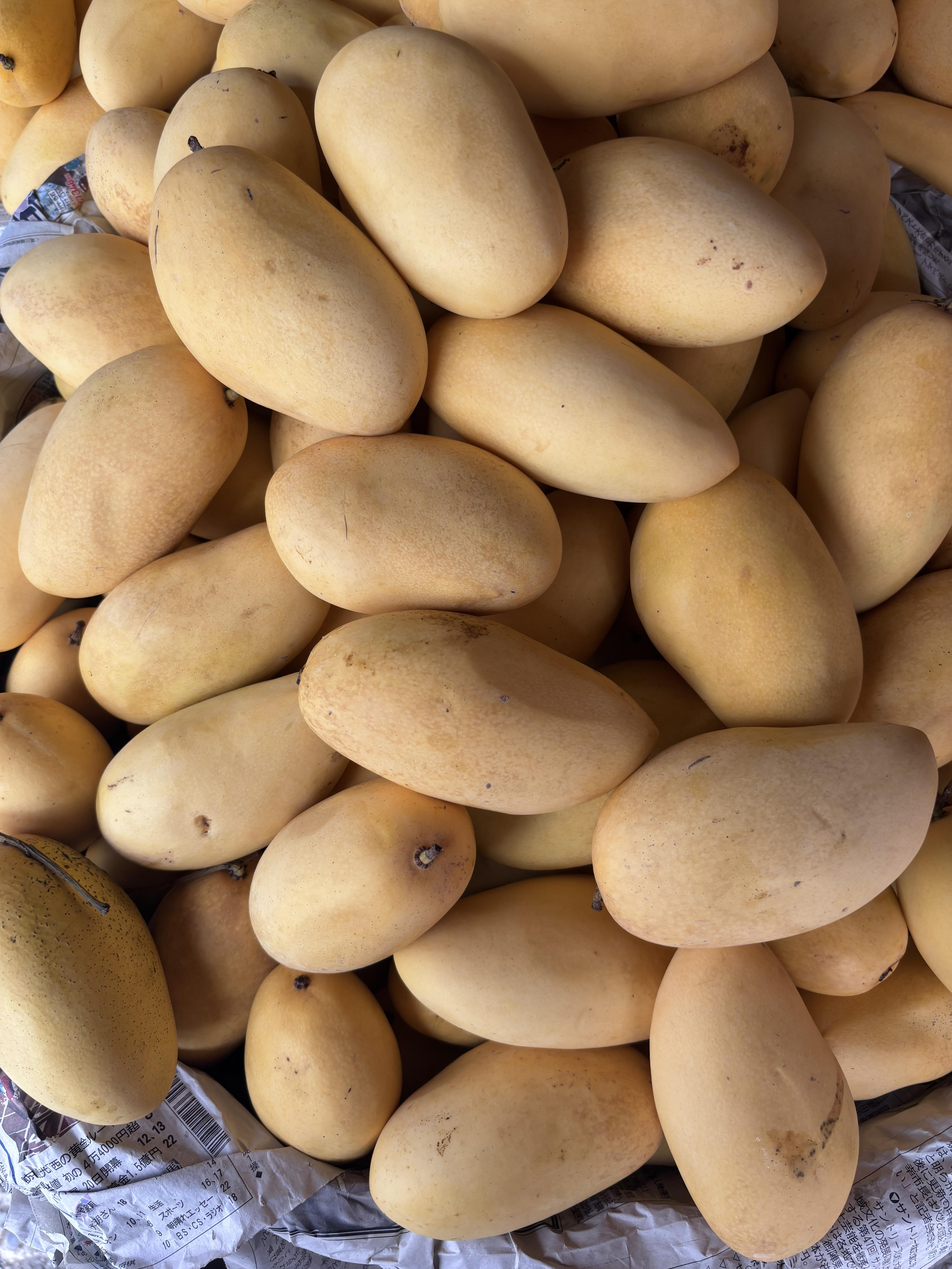mango: (147, 146, 428, 435), (592, 722, 935, 947), (316, 26, 568, 318), (299, 610, 657, 815)
occluded: (650, 944, 858, 1262), (424, 303, 739, 503), (631, 463, 862, 727), (369, 1041, 662, 1241), (552, 137, 826, 347), (19, 345, 247, 597), (266, 433, 562, 614), (0, 834, 176, 1125), (79, 522, 328, 724), (96, 674, 348, 871), (394, 875, 673, 1049), (798, 302, 952, 613), (250, 777, 476, 974), (426, 0, 777, 118), (245, 966, 402, 1164), (0, 233, 181, 388), (772, 96, 890, 330), (149, 852, 277, 1067), (618, 53, 794, 193), (801, 944, 952, 1101), (492, 490, 629, 662), (212, 0, 376, 142), (153, 68, 322, 193), (850, 570, 952, 766), (0, 693, 113, 849), (774, 291, 934, 398), (0, 404, 64, 651), (79, 0, 220, 111), (6, 606, 124, 738), (768, 888, 908, 996), (0, 76, 104, 213), (770, 0, 897, 98), (601, 660, 724, 757), (839, 91, 952, 196), (85, 106, 169, 243), (191, 401, 273, 539), (470, 794, 610, 871), (643, 336, 762, 419), (897, 814, 952, 992), (729, 388, 810, 497), (0, 0, 77, 107), (388, 963, 484, 1048), (892, 0, 952, 107), (872, 201, 921, 294), (270, 411, 345, 470), (0, 100, 39, 177), (181, 0, 248, 24), (400, 0, 442, 30), (54, 373, 75, 400), (380, 727, 381, 728)
